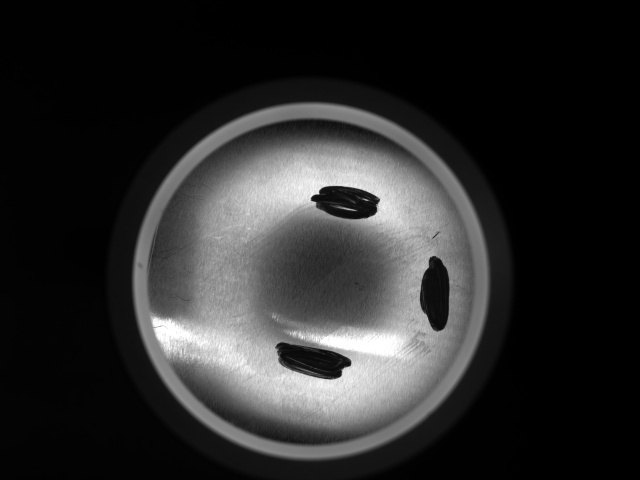zang_wu: (272, 337, 351, 384), (308, 182, 385, 226), (414, 250, 450, 333)
